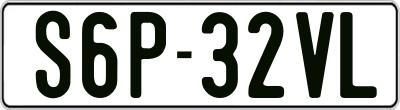2: (247, 9, 284, 96)
3: (200, 11, 236, 102)
6: (80, 10, 116, 97)
L: (339, 9, 380, 96)
P: (129, 12, 164, 104)
S: (33, 11, 73, 99)
V: (294, 12, 333, 100)
